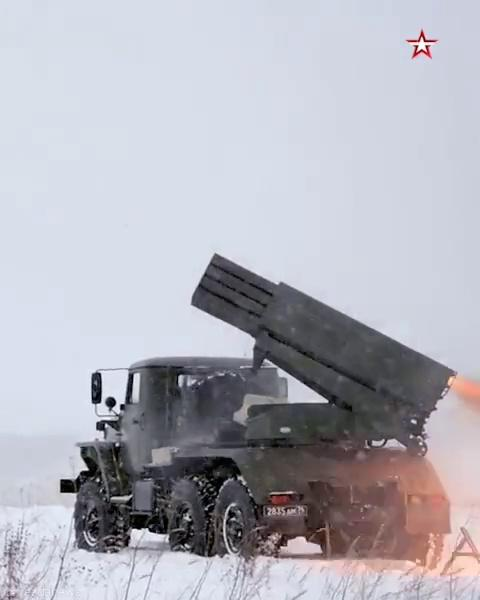MIL_SAM_TEL: (65, 251, 462, 562)
